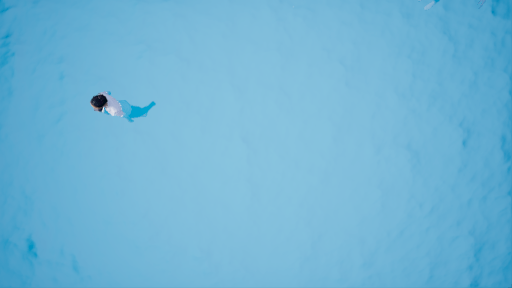person: (90, 90, 161, 125)
